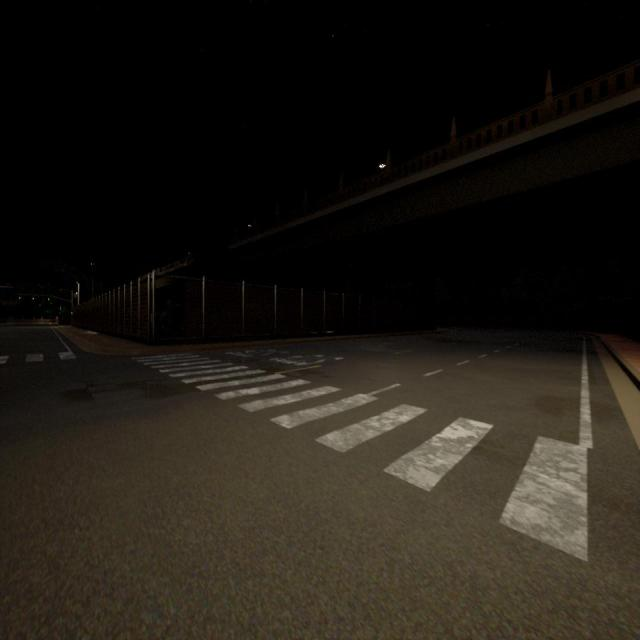traffic_light: (18, 294, 20, 300), (71, 310, 73, 316), (32, 295, 34, 300), (48, 296, 49, 301)
